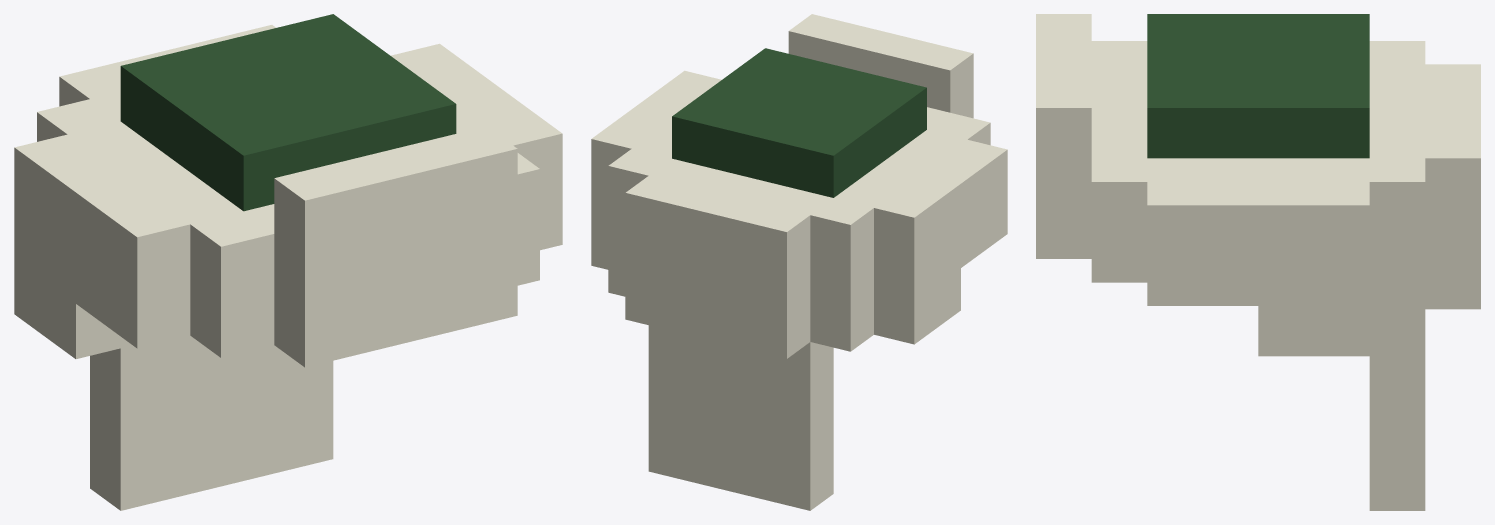
Rendered from characters_export_red-180-helm_lgt_2c_sh.obj.
3 views of the same model, side by side, from view 1: azimuth 30°, elevation 25°; view 2: azimuth 150°, elevation 25°; view 3: azimuth 270°, elevation 25° (orthographic). The views are drawn at different scales.
Parts seen in each view (by area): view 1: helm_lgt_2c_sh; view 2: helm_lgt_2c_sh; view 3: helm_lgt_2c_sh.
Boxes of the visible parts, left/top/right/bottom form: helm_lgt_2c_sh: left=14, top=14, right=562, bottom=510; helm_lgt_2c_sh: left=591, top=14, right=1007, bottom=510; helm_lgt_2c_sh: left=1036, top=14, right=1480, bottom=510.
Bounding box in the file's own units: 0.8 × 0.8 × 0.8.
Materials: 1 (1 with a texture image).
